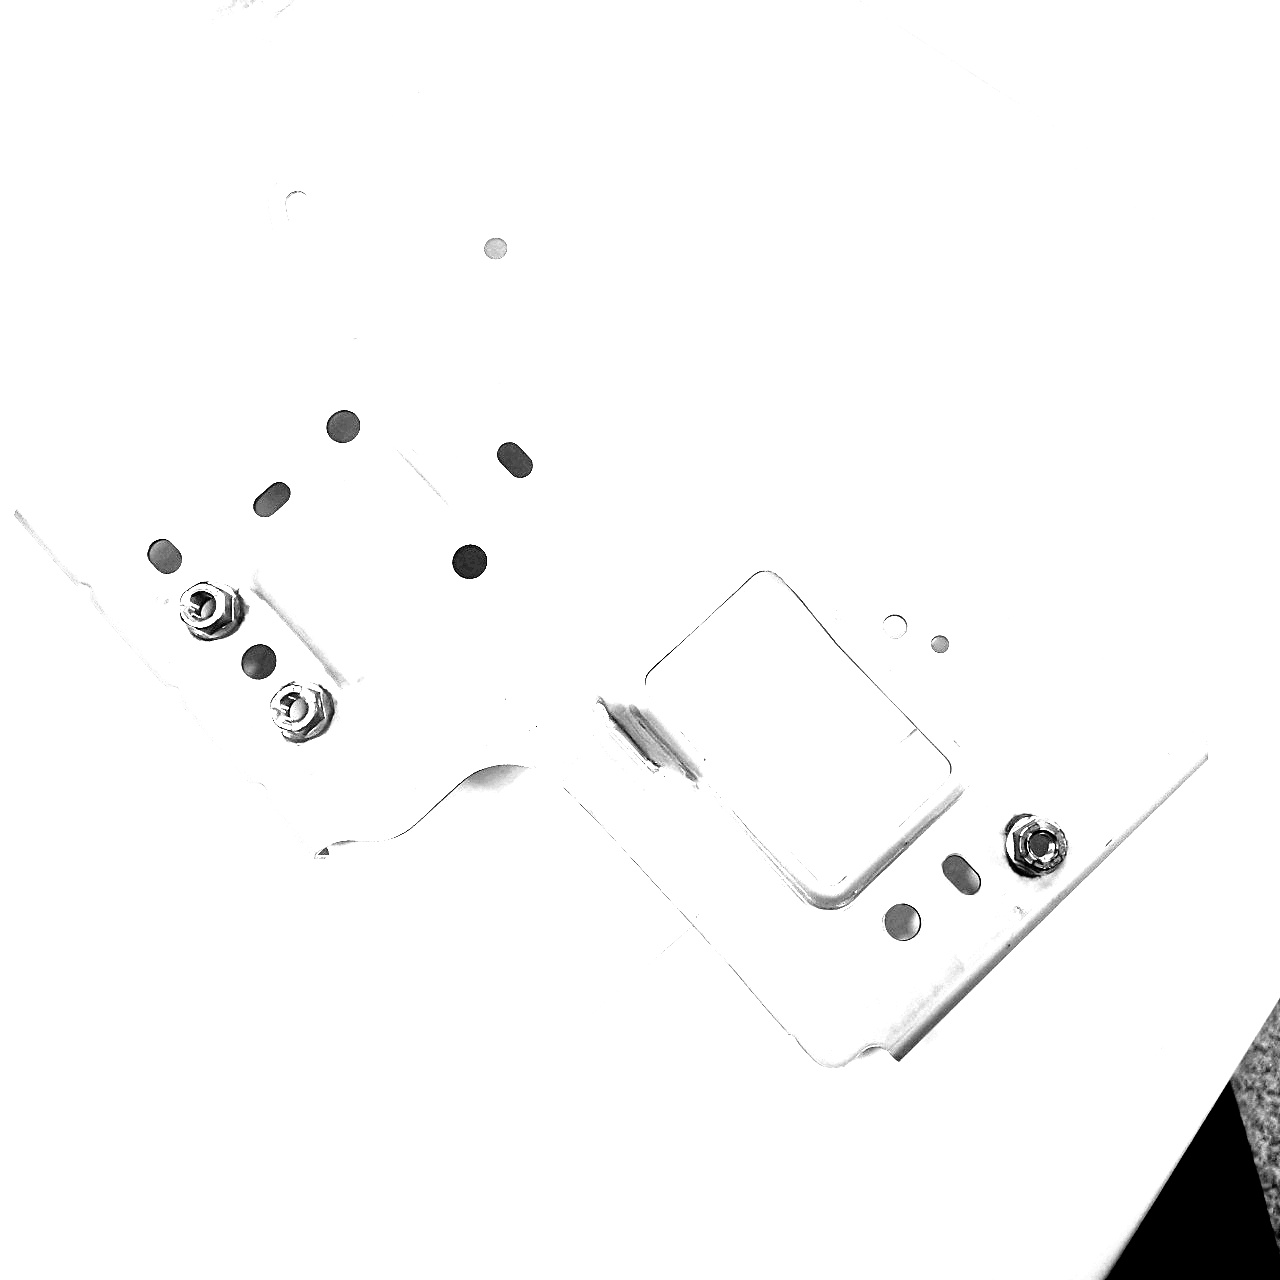dog: (996, 808, 1070, 881), (173, 576, 246, 646), (266, 676, 338, 745)
